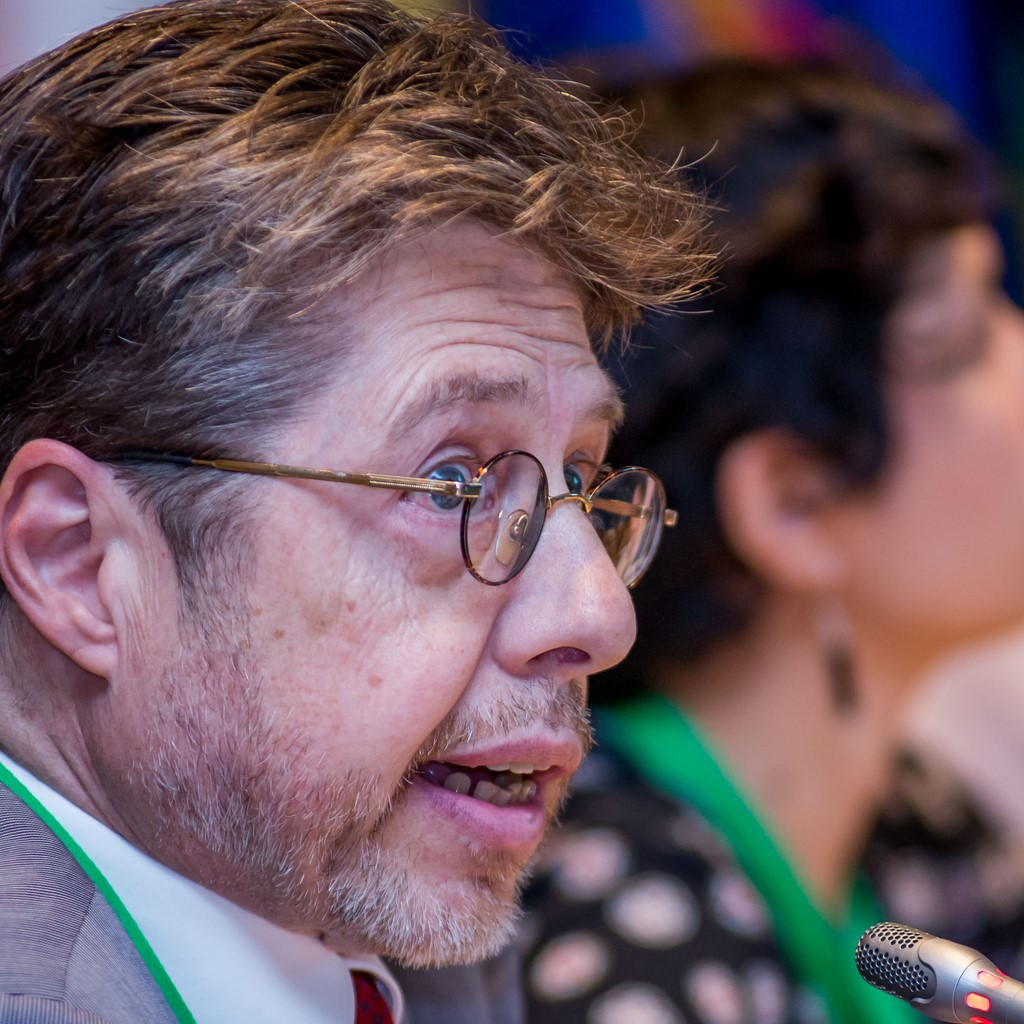sin_mascara: (150, 127, 644, 975)
